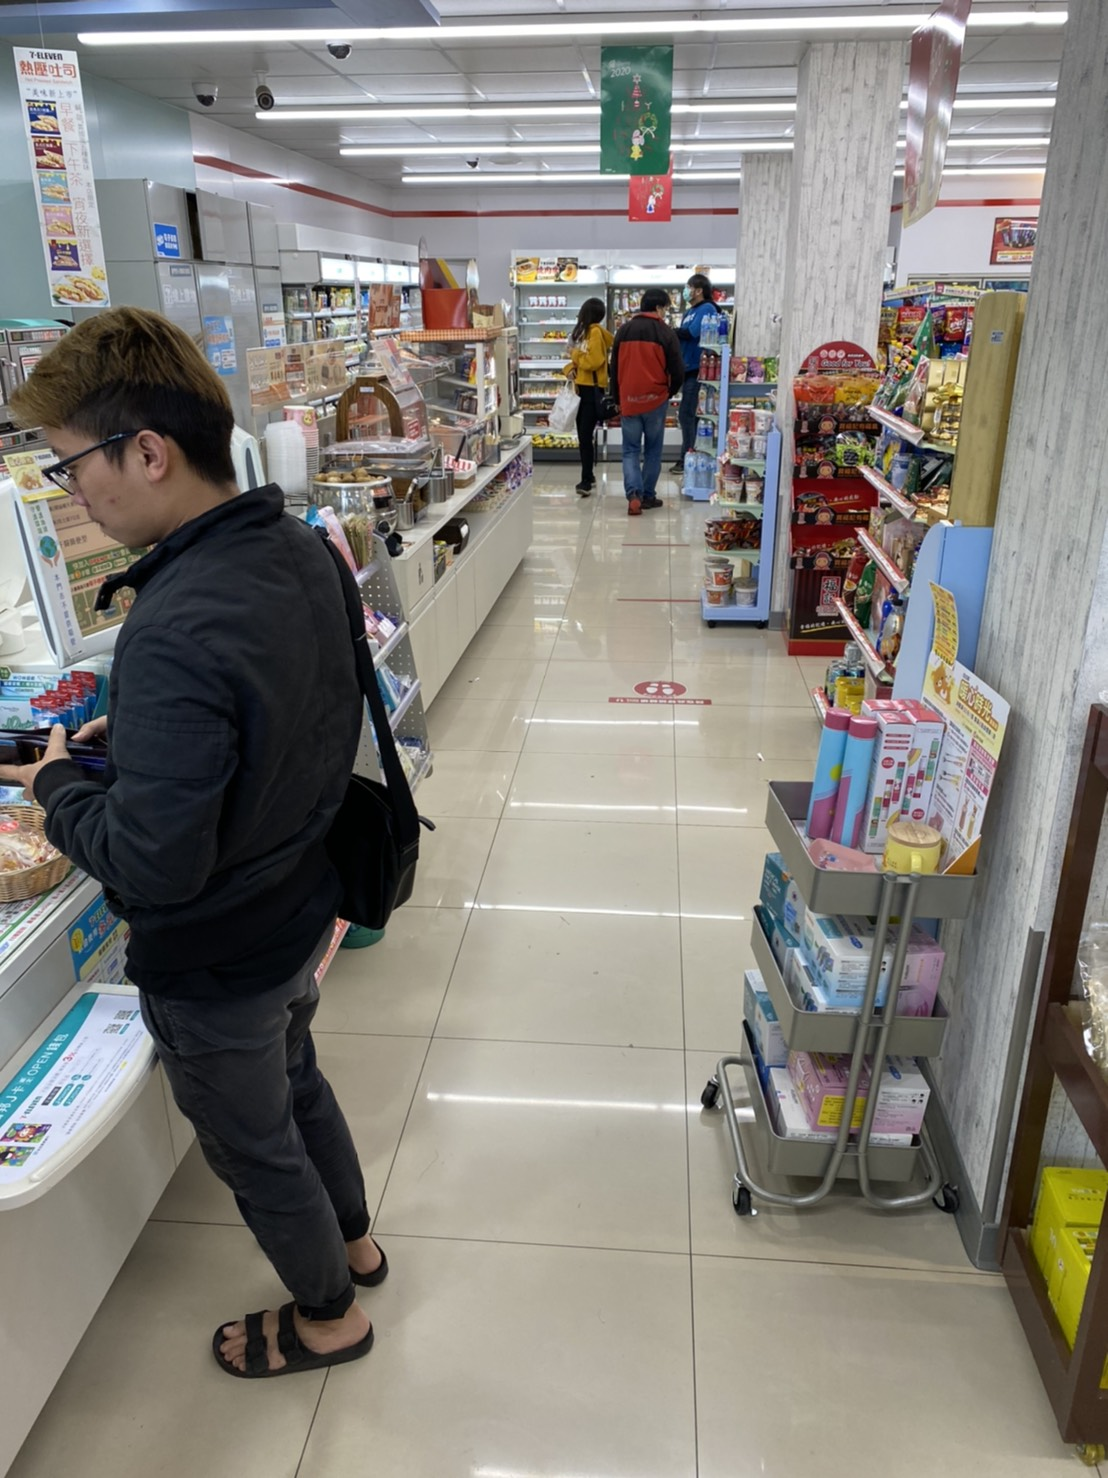people: (24, 314, 397, 1383), (614, 285, 674, 488), (681, 264, 736, 471), (564, 283, 617, 493)
